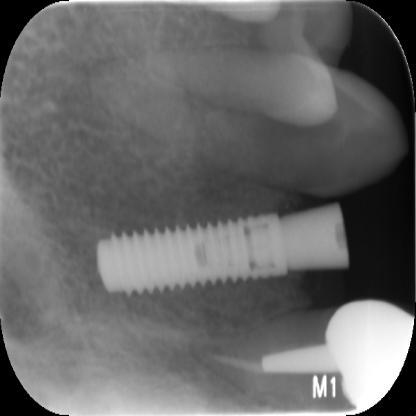ITI: (96, 195, 282, 311)
